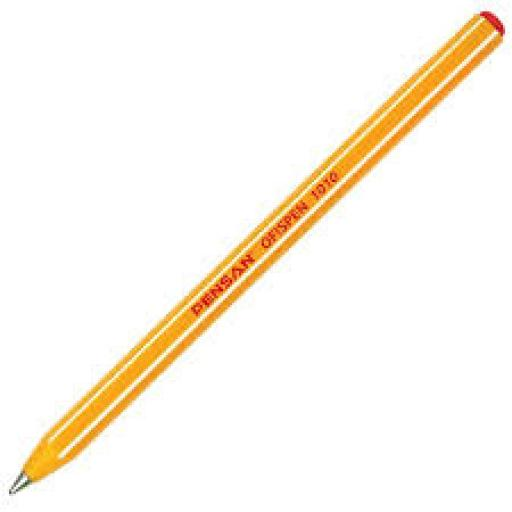tukenmez-kalem: (0, 277, 281, 505)
